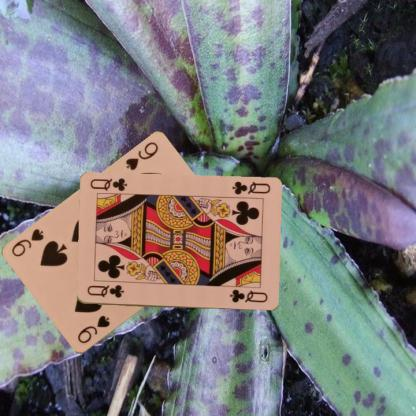9s: (74, 312, 112, 346), (122, 139, 160, 172)
Qc: (229, 178, 271, 196), (84, 282, 125, 300)
